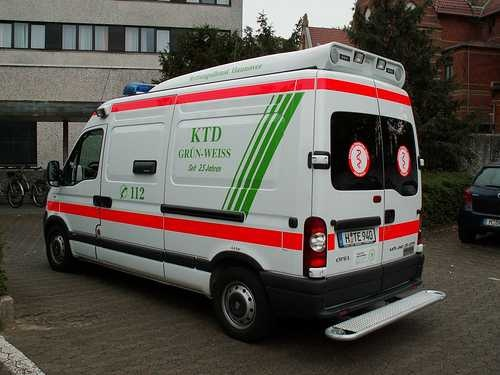Ambulance: (37, 47, 436, 352)
